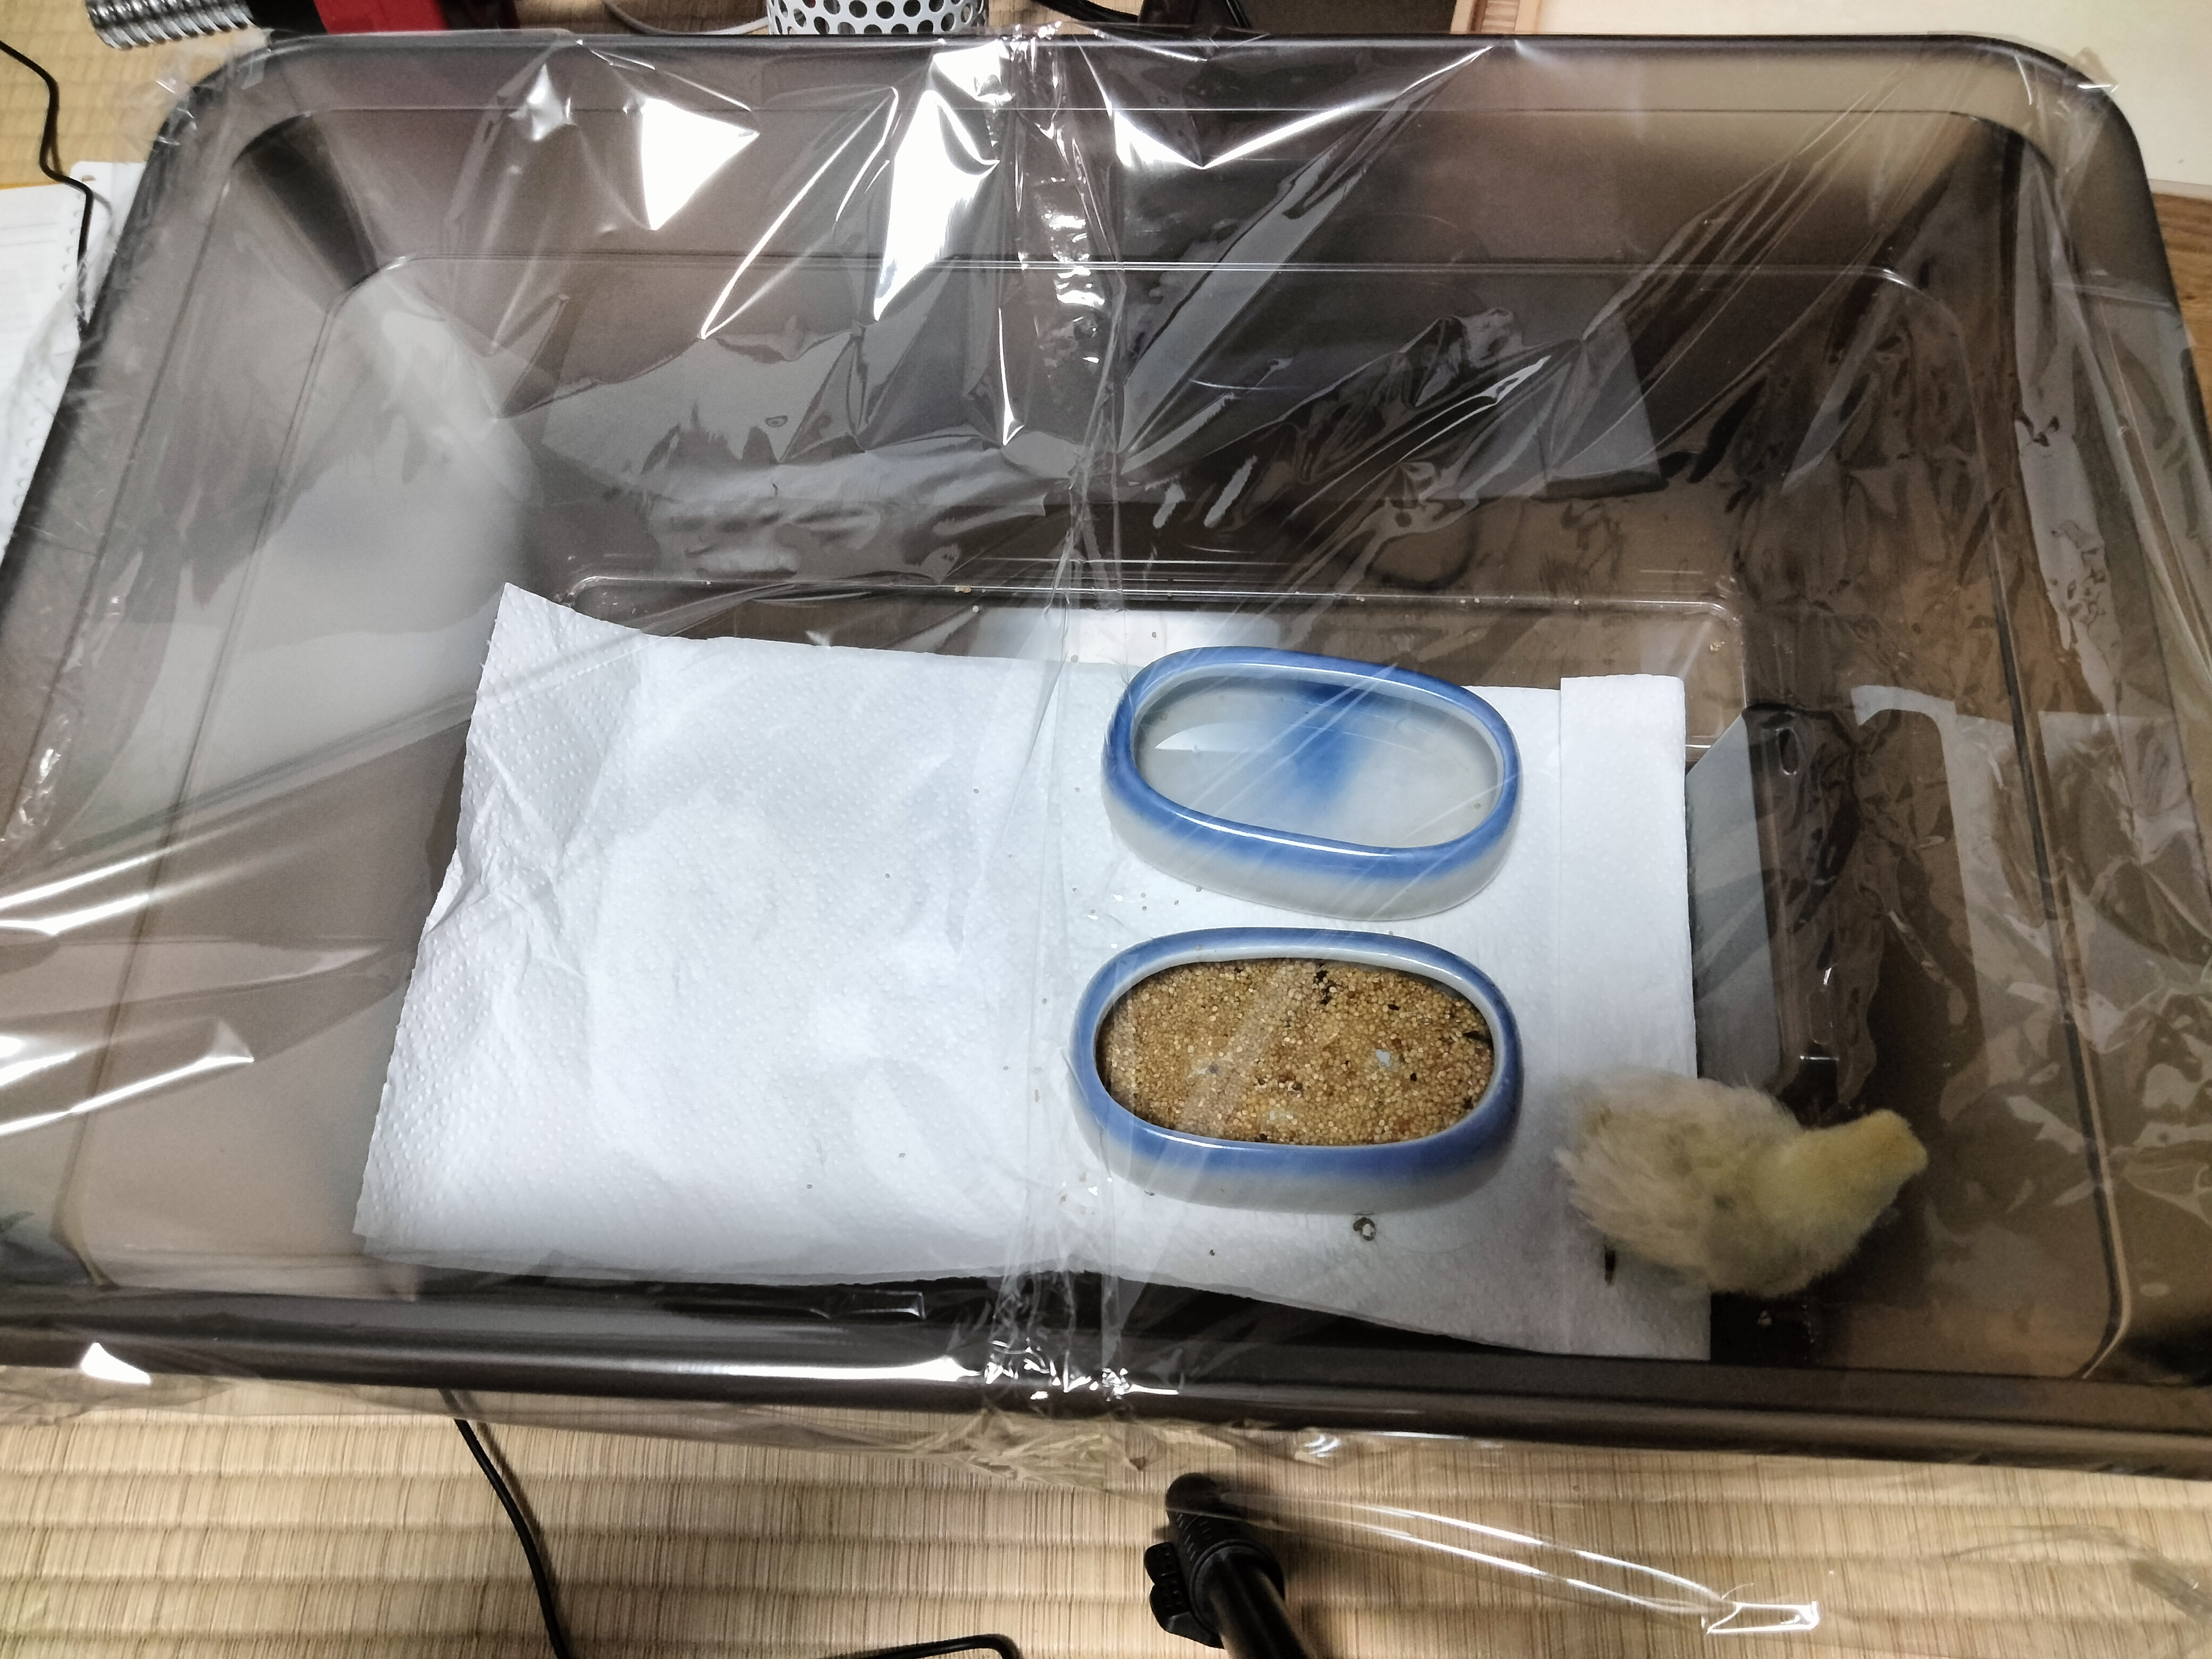shiro: (1531, 1028, 1954, 1333)
